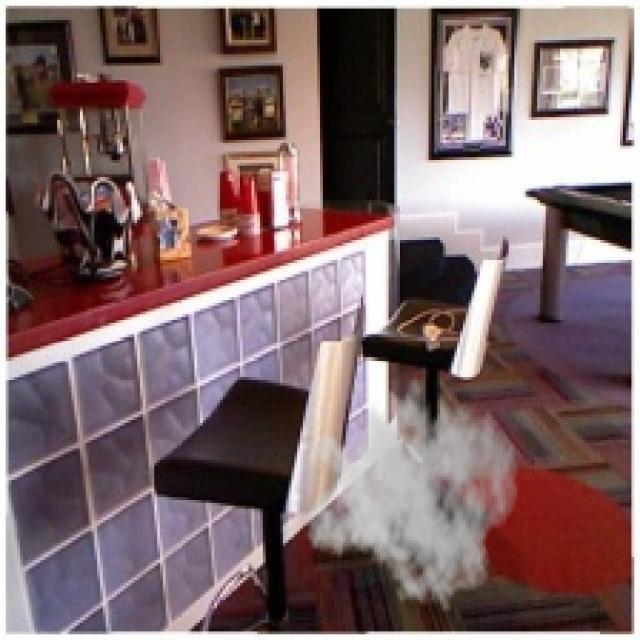Smoke: (303, 363, 520, 614)
